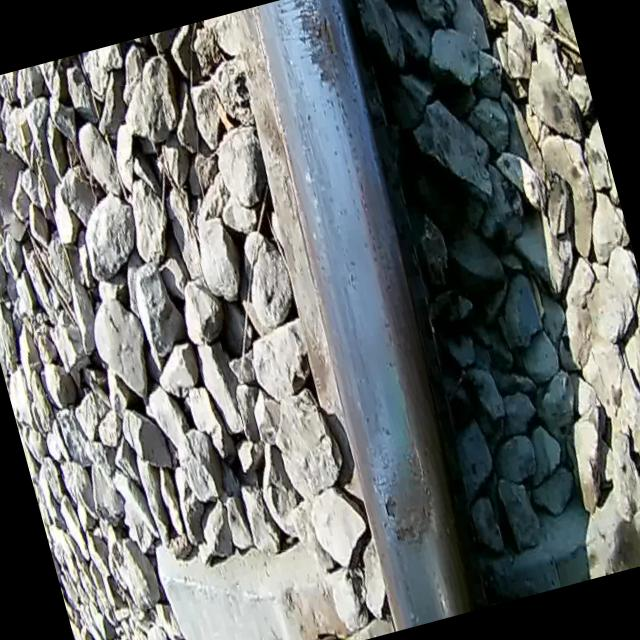Squats: (361, 439, 452, 560), (285, 0, 362, 101)
